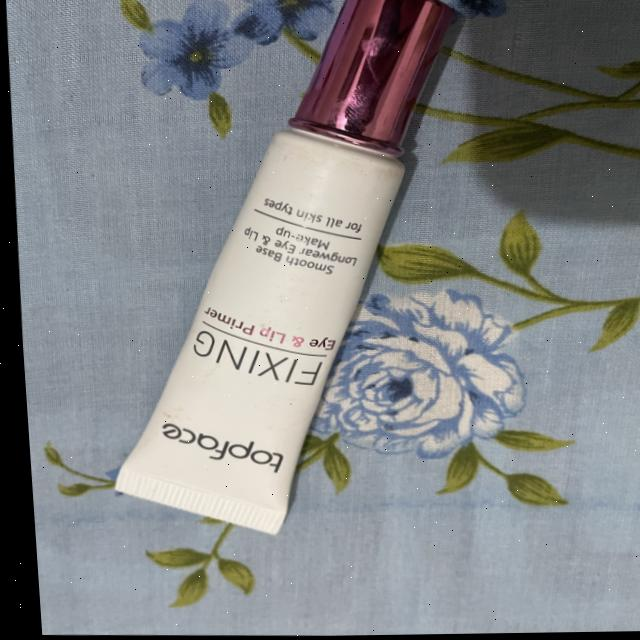bb cream: (58, 0, 551, 558)
